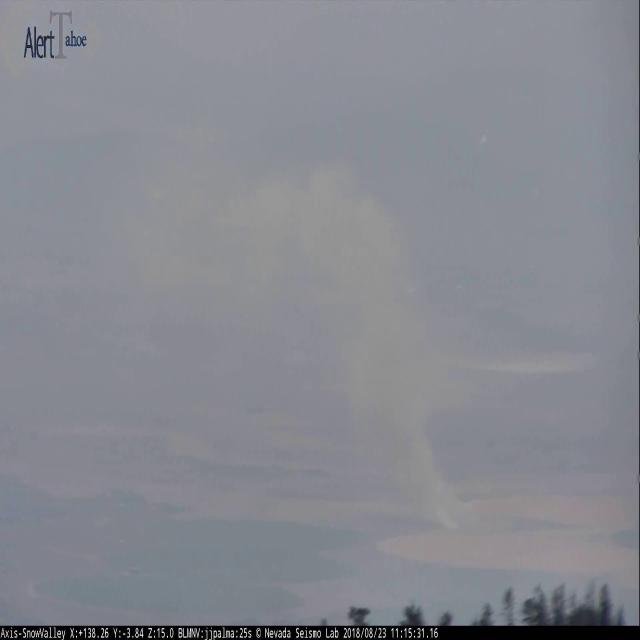smoke: (149, 159, 474, 534)
